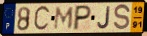8: (17, 6, 32, 32)
C: (32, 4, 51, 33)
J: (97, 5, 111, 30)
M: (53, 7, 75, 31)
P: (72, 4, 93, 32)
S: (112, 3, 132, 32)
